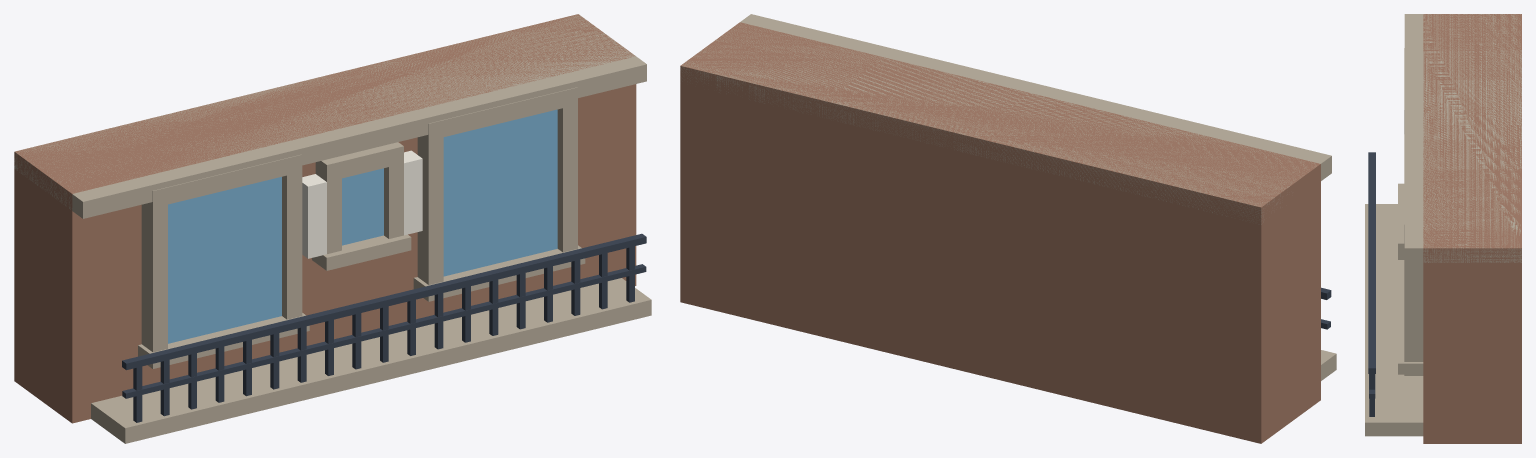
Rendered from cittaMattonePianoB.glb.
3 views of the same model, side by side, from view 1: azimuth 30°, elevation 25°; view 2: azimuth 150°, elevation 25°; view 3: azimuth 270°, elevation 25° (orthographic). The views are drawn at different scales.
Visible parts, largest first — view 1: cittaMattonePianoB_cittaMattone, cittaMattonePianoB_stone, cittaMattonePianoB_glass, cittaMattonePianoB_steelDark, cittaMattonePianoB_white; view 2: cittaMattonePianoB_cittaMattone, cittaMattonePianoB_stone; view 3: cittaMattonePianoB_cittaMattone, cittaMattonePianoB_stone, cittaMattonePianoB_steelDark.
Part boxes in pixels (left/top/right/bottom): cittaMattonePianoB_cittaMattone: left=14, top=14, right=636, bottom=423; cittaMattonePianoB_stone: left=14, top=14, right=651, bottom=443; cittaMattonePianoB_glass: left=168, top=109, right=557, bottom=343; cittaMattonePianoB_steelDark: left=122, top=233, right=646, bottom=422; cittaMattonePianoB_white: left=302, top=150, right=422, bottom=258; cittaMattonePianoB_cittaMattone: left=680, top=22, right=1320, bottom=443; cittaMattonePianoB_stone: left=680, top=14, right=1336, bottom=380; cittaMattonePianoB_cittaMattone: left=1423, top=14, right=1521, bottom=443; cittaMattonePianoB_stone: left=1365, top=14, right=1521, bottom=436; cittaMattonePianoB_steelDark: left=1368, top=152, right=1375, bottom=416.
Bounding box in the file's own units: 9 × 3.5 × 2.54.
